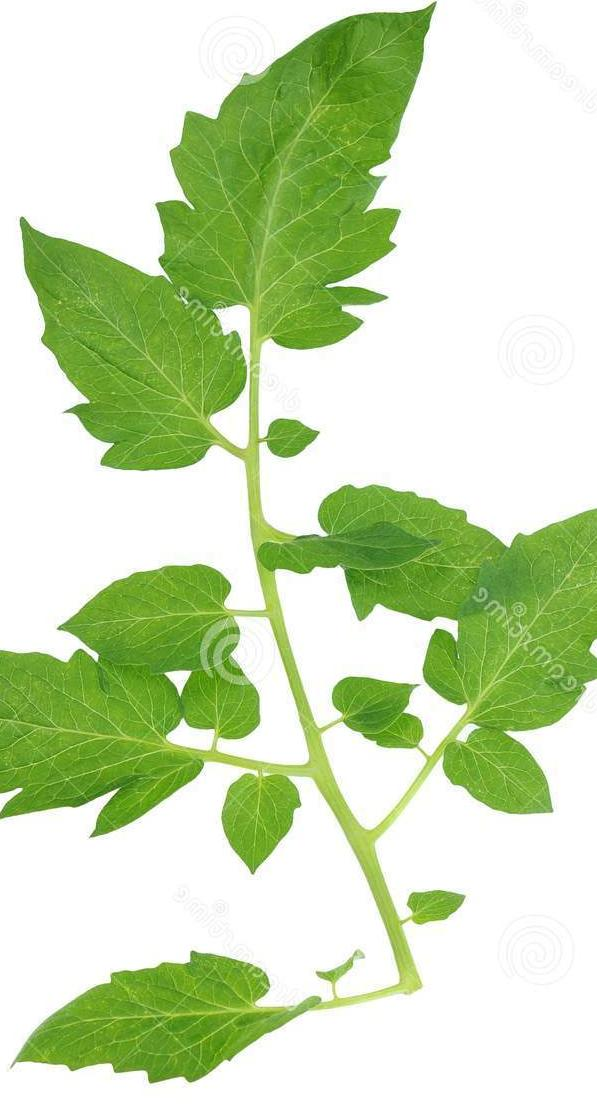Tomato leaf: (163, 0, 489, 362), (0, 205, 270, 520), (0, 917, 301, 1118), (425, 466, 597, 750), (297, 443, 506, 637), (0, 650, 206, 841), (25, 550, 263, 701)
